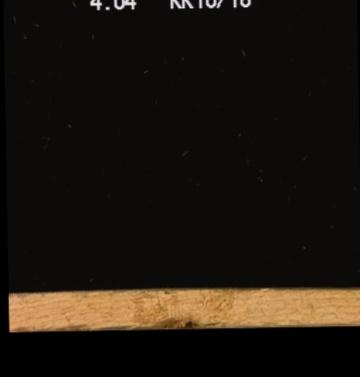wave: (95, 317, 228, 329)
